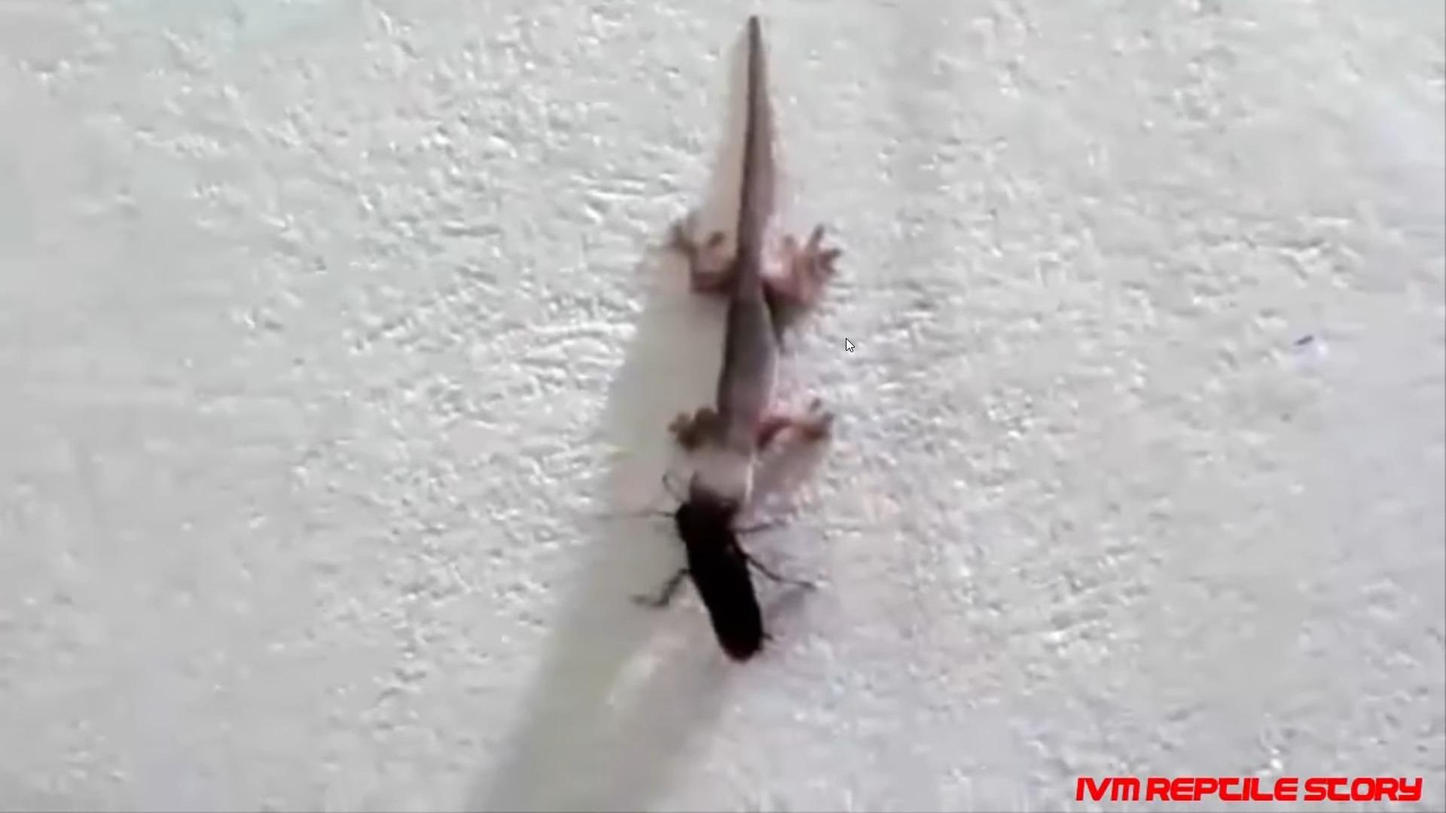cockroach: (651, 510, 782, 658)
lizard: (654, 94, 824, 506)
